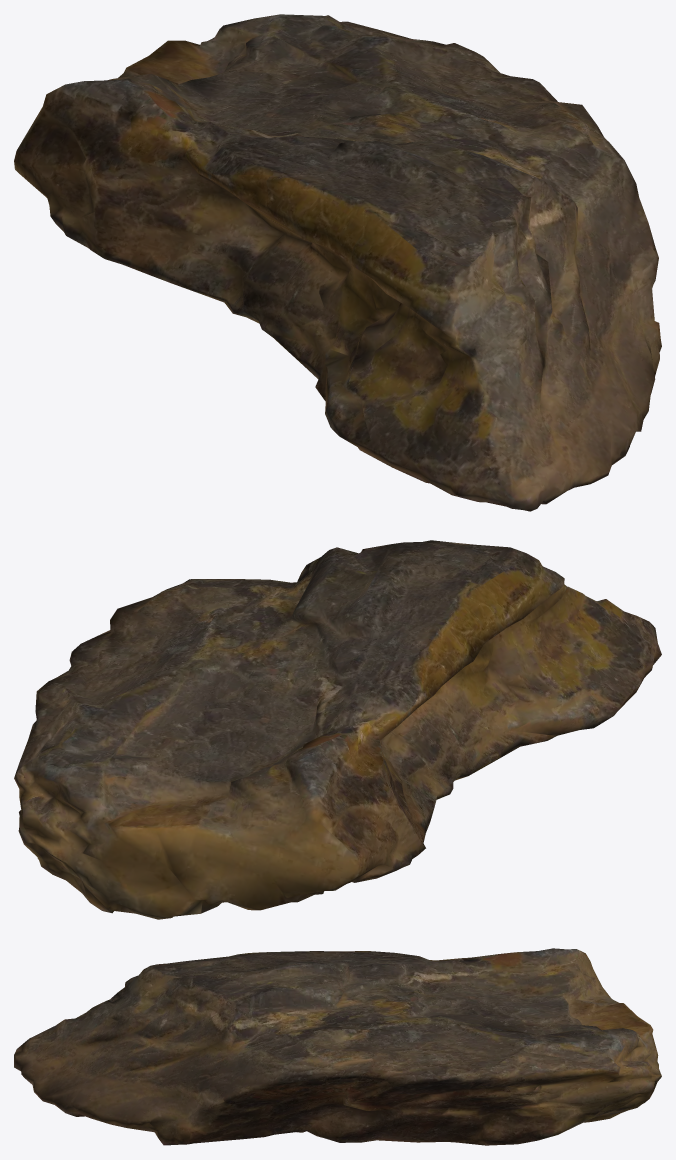
The model's file is rock_09.glb.
3 views of the same model, one above another, from view 1: azimuth 30°, elevation 25°; view 2: azimuth 150°, elevation 25°; view 3: azimuth 270°, elevation 25° (orthographic). The views are drawn at different scales.
Parts seen in each view (by area): view 1: rock_09_LOD0; view 2: rock_09_LOD0; view 3: rock_09_LOD0.
Boxes of the visible parts, x1,y1,x2,y2 form: rock_09_LOD0: (14,14,661,511); rock_09_LOD0: (14,540,661,919); rock_09_LOD0: (14,948,661,1145).
Bounding box in the file's own units: 0.0739 × 0.0328 × 0.1446.
1 material, 1 textured.
